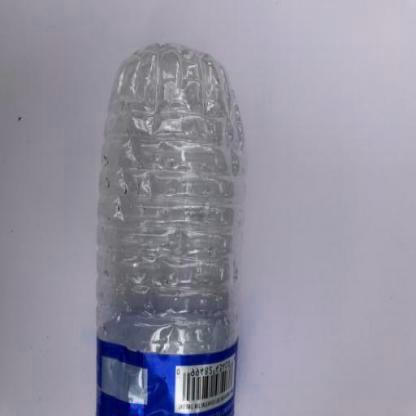Plastic: (90, 36, 245, 416)
